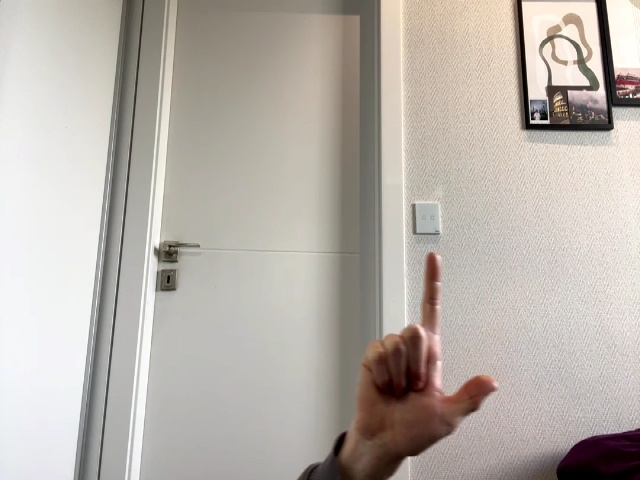L: (358, 253, 500, 456)
